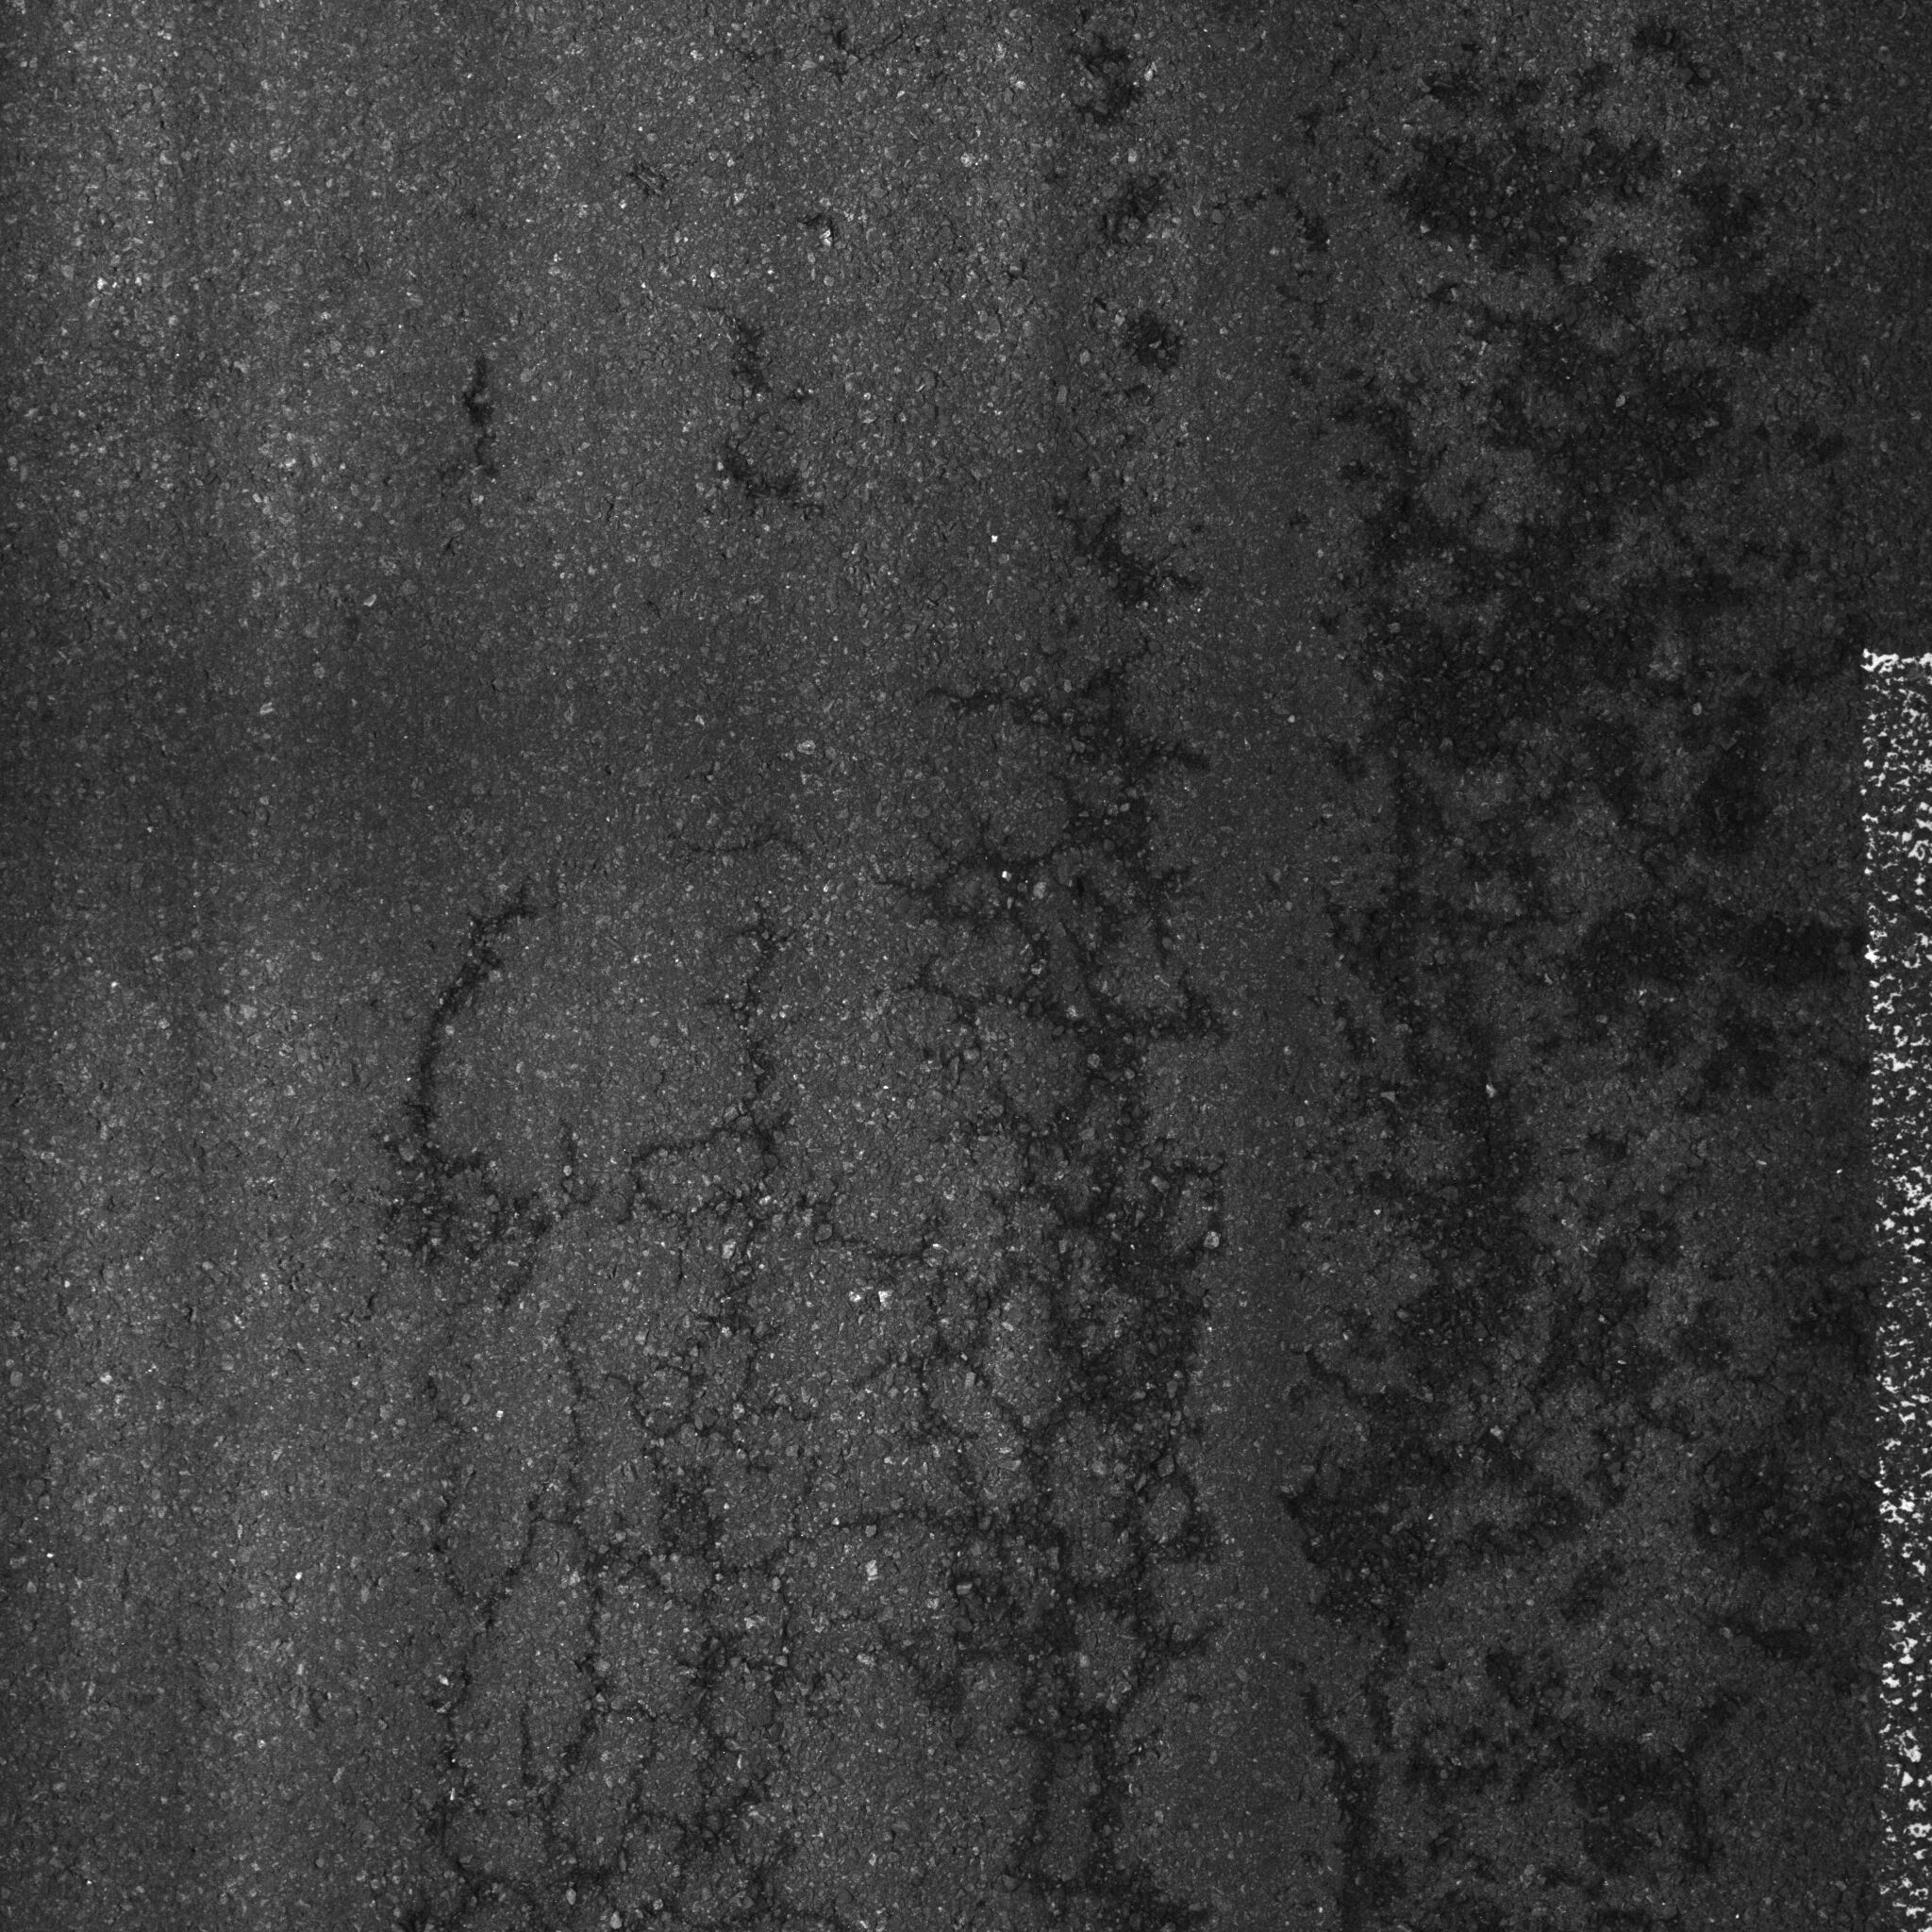alligator: (361, 651, 1256, 1925)
